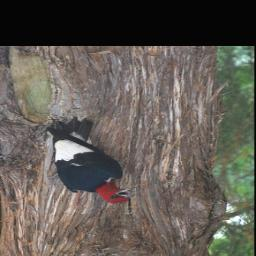Woodpecker: (38, 117, 142, 207)
